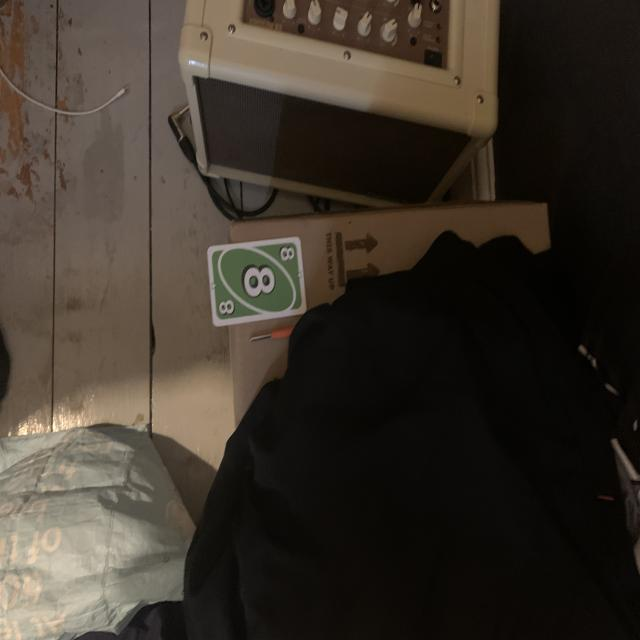lgreen-8: (277, 244, 298, 267)
